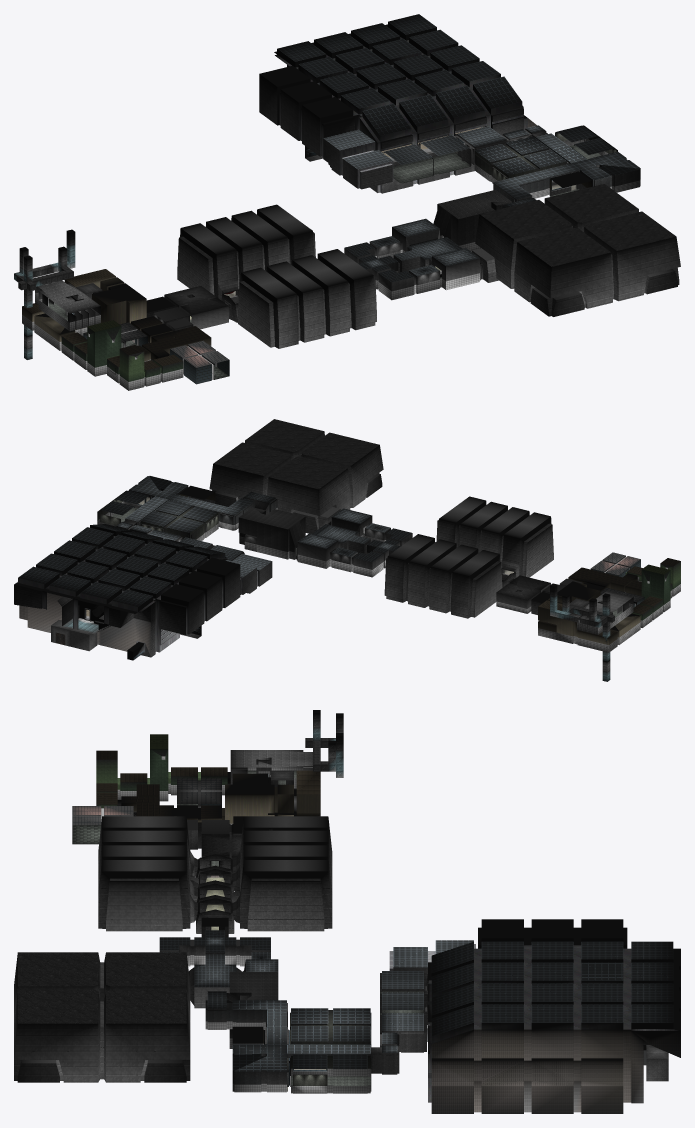
The model's file is Facility.glb.
3 renders of one model, top to bottom at view 1: azimuth 30°, elevation 25°; view 2: azimuth 150°, elevation 25°; view 3: azimuth 270°, elevation 25°, orthographic. The views are drawn at different scales.
Parts seen in each view (by area): view 1: Facility; view 2: Facility; view 3: Facility.
Boxes of the visible parts, x1,y1,x2,y2 form: Facility: [14, 14, 680, 390]; Facility: [14, 419, 680, 681]; Facility: [14, 710, 680, 1113].
Size of the model in its own units: 1660 by 288 by 1394.
Materials: 61 (60 with a texture image).
